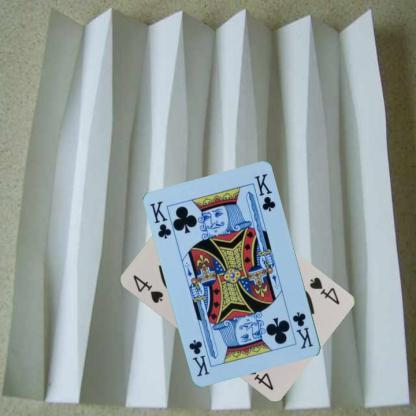4s: (130, 272, 164, 305), (306, 274, 340, 306)
Kc: (148, 198, 173, 240), (290, 309, 314, 350)
